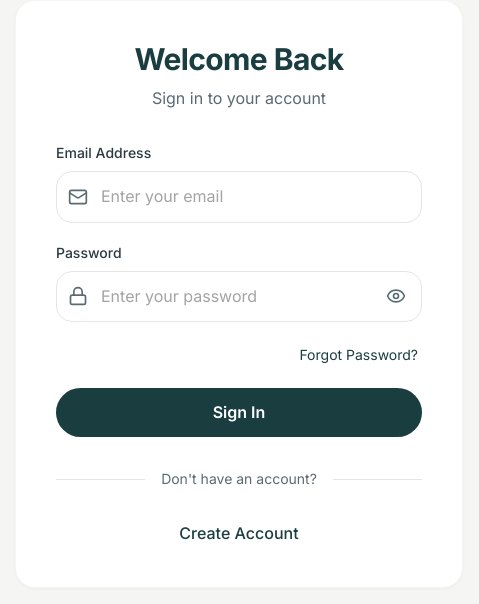
Scenario: AuthForm Component › Form submission › should show loading state during submission
Step 1. Type "user@example.com" into the field labelled "Email Address" → point(239, 197), box [56, 171, 422, 223]
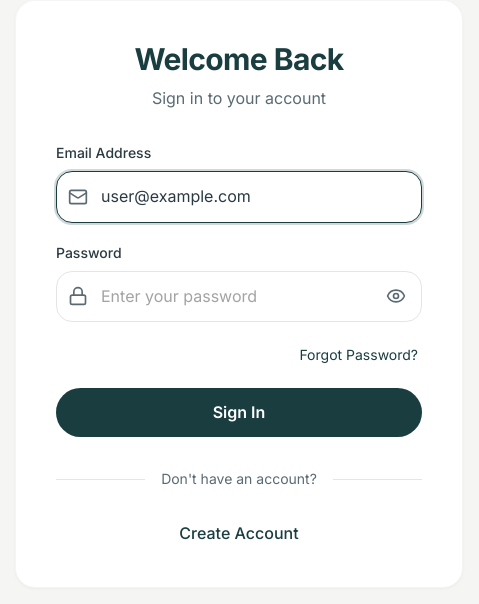
Step 2. Type "password123" into the password field labelled "Password" → point(239, 296), box [56, 271, 422, 322]
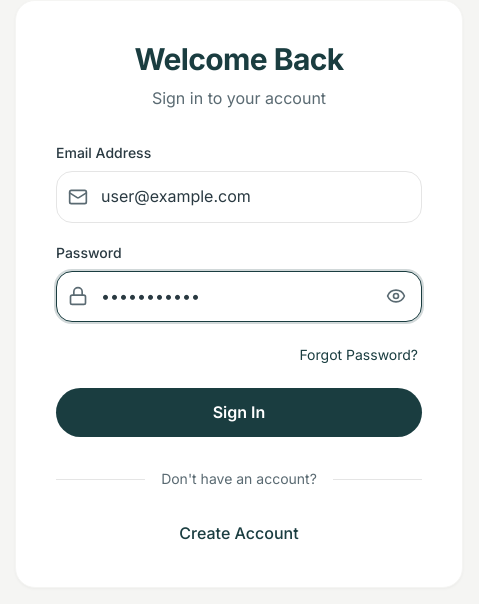
Step 3. Click the button "Sign In" → point(239, 413), box [56, 388, 422, 437]
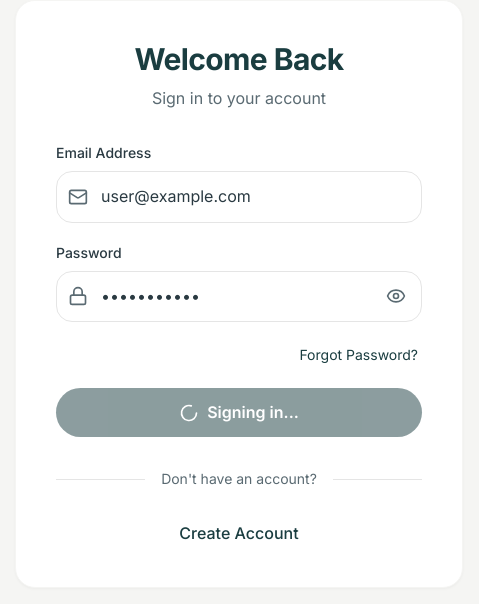
expect the button named "sign in" is disabled: met, box [56, 388, 422, 437]
